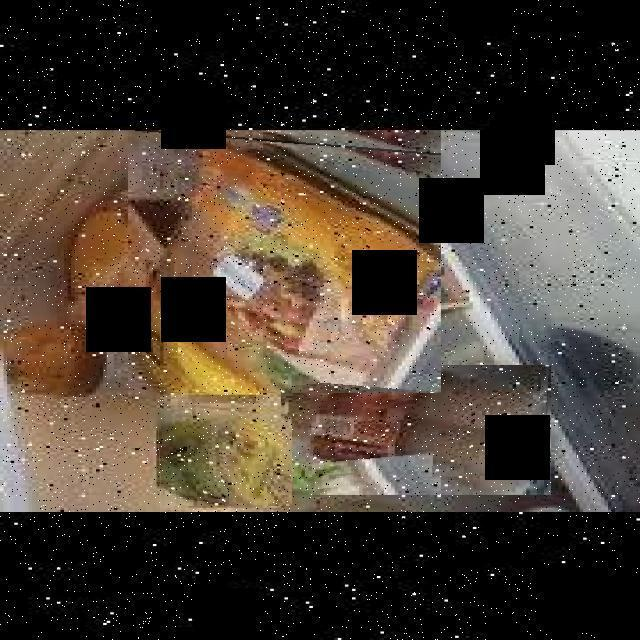guacamole: (156, 401, 292, 506)
sausage: (281, 365, 551, 493)
tortillas: (128, 128, 441, 393)
